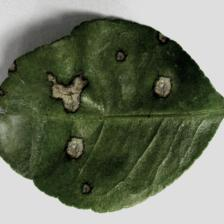canker: (0, 24, 175, 158)
